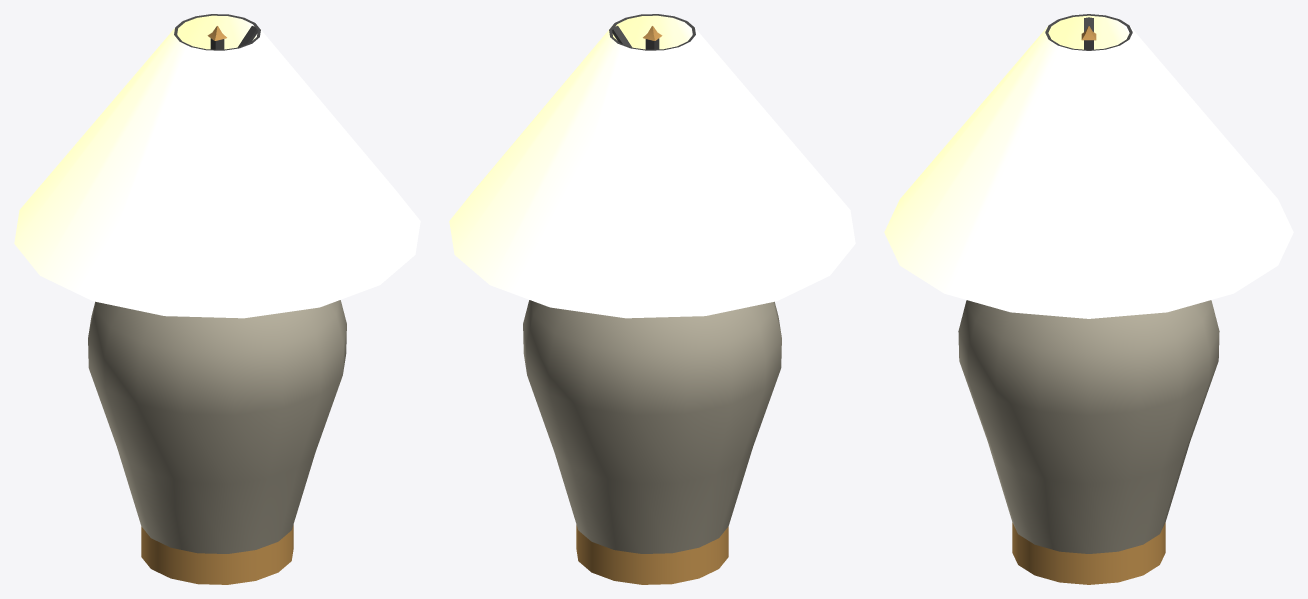
The model's file is S_LampAbat-jour1.fbx.
3 views of the same model, side by side, from view 1: azimuth 30°, elevation 25°; view 2: azimuth 150°, elevation 25°; view 3: azimuth 270°, elevation 25° (orthographic).
Visible parts, largest first — view 1: S_LampAbat-jour1; view 2: S_LampAbat-jour1; view 3: S_LampAbat-jour1.
Boxes of the visible parts, x1,y1,x2,y2 form: S_LampAbat-jour1: [14, 14, 420, 584]; S_LampAbat-jour1: [449, 14, 855, 584]; S_LampAbat-jour1: [884, 14, 1293, 584].
Size of the model in its own units: 42.68 by 60.51 by 42.68.
